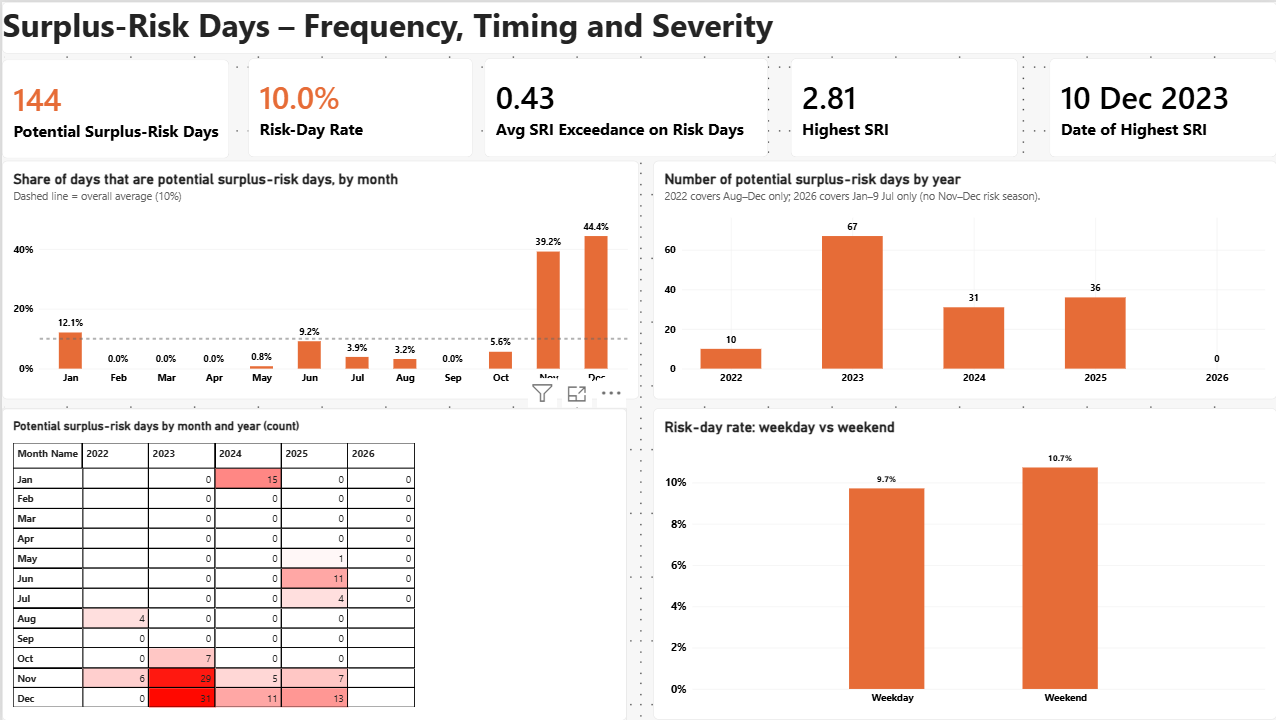

Layout of this report page (visuals, bound fields, positions):
{"tool":"powerbi","page":{"name":"Surplus-Risk Days","canvas":[1920,1080],"ordinal":2},"visuals":[{"type":"textbox","box":[0,0,1920.4,77.8],"z":0},{"type":"cardVisual","fields":{"Data":["surplus_risk_daily.Risk Days"]},"box":[0,86,342.6,149],"z":1000},{"type":"cardVisual","fields":{"Data":["surplus_risk_daily.Avg Exceedance (risk days)"]},"box":[725.9,85.2,427.8,149],"z":2000},{"type":"cardVisual","fields":{"Data":["surplus_risk_daily.Peak SRI"]},"box":[1187,85.2,342.6,149],"z":3000},{"type":"cardVisual","fields":{"Data":["surplus_risk_daily.Peak SRI Date"]},"box":[1577.8,85.2,342.6,149],"z":4000},{"type":"cardVisual","fields":{"Data":["surplus_risk_daily.Risk Day %"]},"box":[370.4,85.2,338.9,149],"z":5000},{"type":"clusteredColumnChart","title":"Share of days that are potential surplus-risk days, by month","fields":{"Category":["DateTable.Month Name"],"Y":["surplus_risk_daily.Risk Day % (show 0)"]},"box":[0,238.9,959.3,359.3],"z":6000},{"type":"clusteredColumnChart","title":"Number of potential surplus-risk days by year","fields":{"Category":["DateTable.Year"],"Y":["surplus_risk_daily.Risk Days (show 0)"]},"box":[981.5,238.9,938.9,359.3],"z":7000},{"type":"pivotTable","title":"Potential surplus-risk days by month and year (count)","fields":{"Columns":["DateTable.Year"],"Rows":["DateTable.Month Name"],"Values":["surplus_risk_daily.Risk Days (show 0)"]},"box":[0,611.1,940.7,470.4],"z":8000},{"type":"clusteredColumnChart","title":"Risk-day rate: weekday vs weekend","fields":{"Category":["DateTable.Day Type"],"Y":["surplus_risk_daily.Risk Day % (show 0)"]},"box":[981.5,611.1,938.9,468.5],"z":9000}]}

Visuals, with their boxes in screenshot pixels (x1, y1, x2, y2), scaled from the page's 1920x1080 canvas onto the 1276x720 screenshot:
textbox: locate(0, 0, 1275, 52)
cardVisual - surplus_risk_daily.Risk Days: locate(0, 57, 228, 157)
cardVisual - surplus_risk_daily.Avg Exceedance (risk days): locate(482, 57, 767, 156)
cardVisual - surplus_risk_daily.Peak SRI: locate(789, 57, 1017, 156)
cardVisual - surplus_risk_daily.Peak SRI Date: locate(1049, 57, 1275, 156)
cardVisual - surplus_risk_daily.Risk Day %: locate(246, 57, 471, 156)
"Share of days that are potential surplus-risk days, by month" clusteredColumnChart: locate(0, 159, 638, 399)
"Number of potential surplus-risk days by year" clusteredColumnChart: locate(652, 159, 1275, 399)
"Potential surplus-risk days by month and year (count)" pivotTable: locate(0, 407, 625, 719)
"Risk-day rate: weekday vs weekend" clusteredColumnChart: locate(652, 407, 1275, 719)
